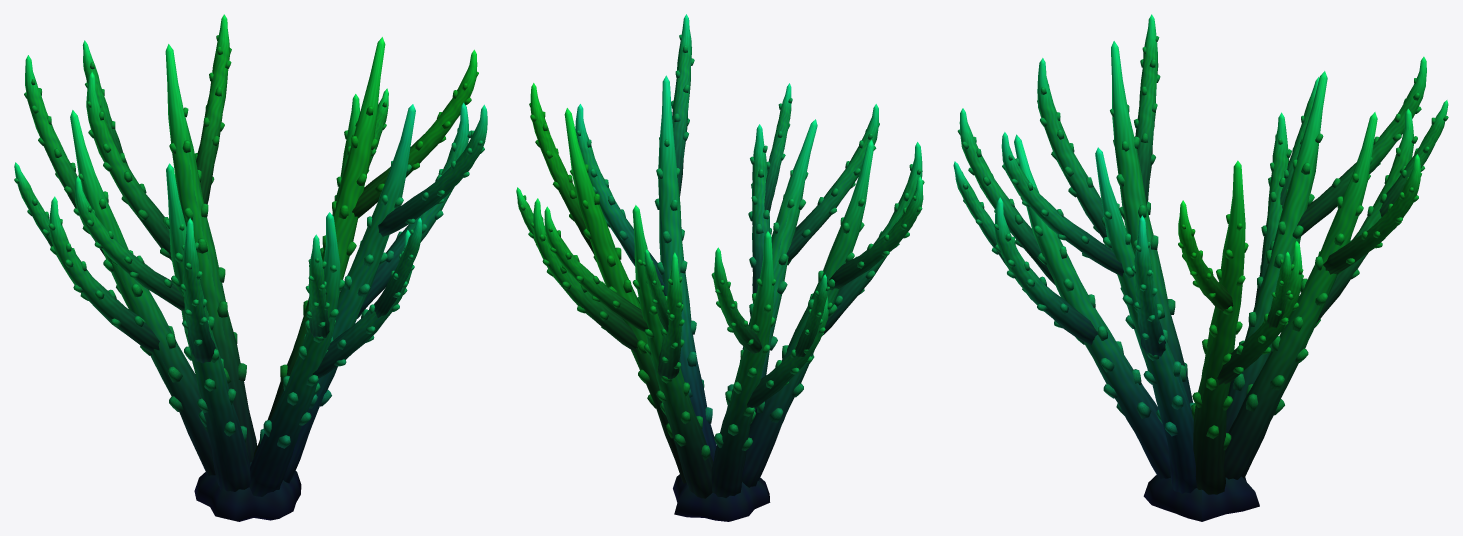
File: reef-acropora-staghorn-thicket.glb
The picture shows the model from 3 angles, left to right: view 1: azimuth 30°, elevation 25°; view 2: azimuth 150°, elevation 25°; view 3: azimuth 270°, elevation 25°; orthographic projection. The views are drawn at different scales.
Parts seen in each view (by area): view 1: Reef_Acropora_Staghorn_Thicket; view 2: Reef_Acropora_Staghorn_Thicket; view 3: Reef_Acropora_Staghorn_Thicket.
Boxes of the visible parts, x1=… form: Reef_Acropora_Staghorn_Thicket: x1=14, y1=14, x2=487, y2=521; Reef_Acropora_Staghorn_Thicket: x1=516, y1=14, x2=924, y2=521; Reef_Acropora_Staghorn_Thicket: x1=953, y1=14, x2=1448, y2=521.
Size of the model in its own units: 0.166 by 0.1663 by 0.1701.
Materials: 1 (1 with a texture image).
